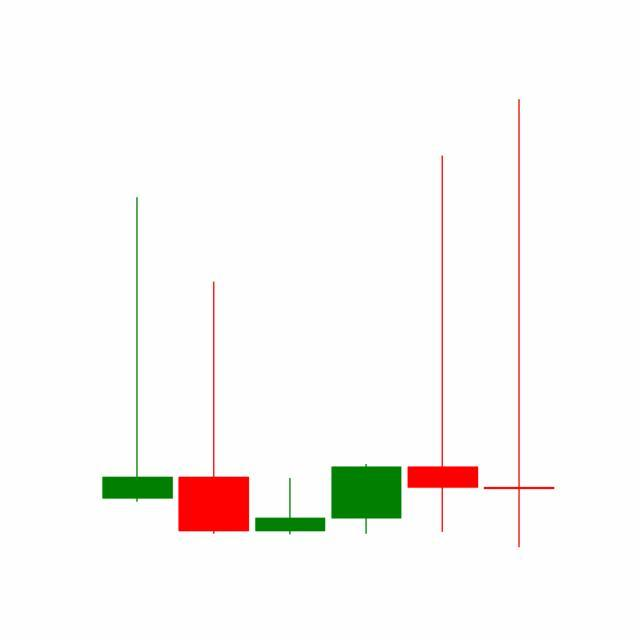Spinning Top: (404, 152, 482, 537)
